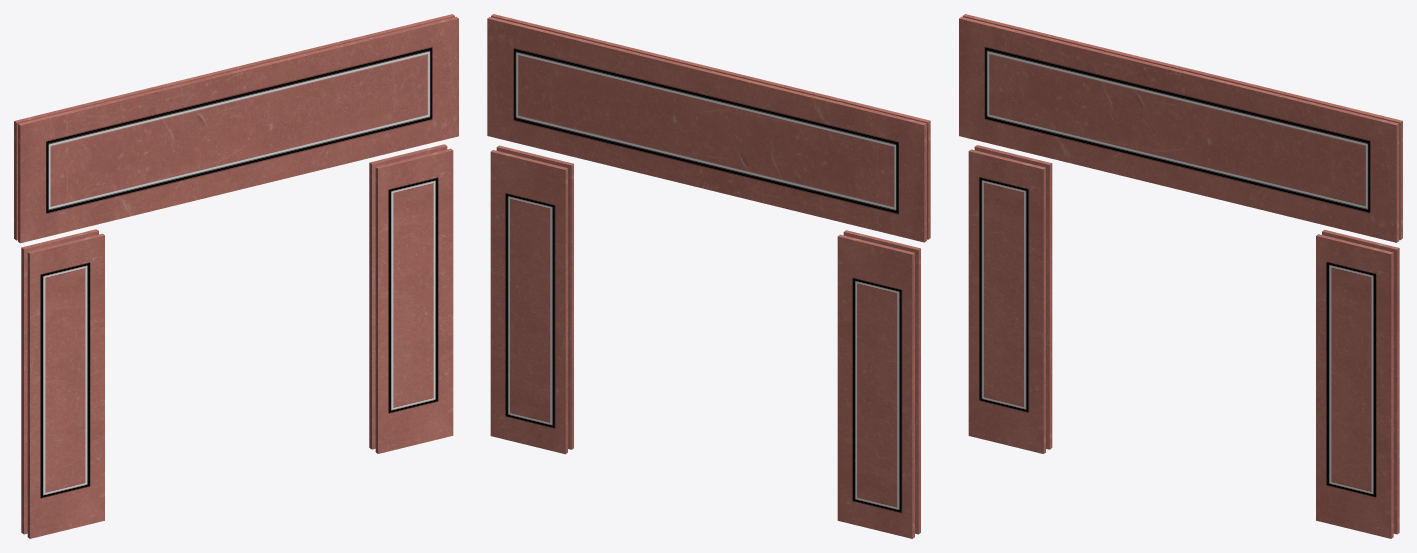
The model's file is SM_SJJ_HG_Wall03D.fbx.
3 renders of one model, left to right at view 1: azimuth 30°, elevation 25°; view 2: azimuth 150°, elevation 25°; view 3: azimuth 330°, elevation 25°, orthographic.
Parts seen in each view (by area): view 1: SM_SJJ_HG_Wall03D; view 2: SM_SJJ_HG_Wall03D; view 3: SM_SJJ_HG_Wall03D.
Part boxes in pixels (x1=…): SM_SJJ_HG_Wall03D: x1=14, y1=14, x2=458, y2=538; SM_SJJ_HG_Wall03D: x1=487, y1=14, x2=930, y2=538; SM_SJJ_HG_Wall03D: x1=959, y1=14, x2=1402, y2=538.
Bounding box in the file's own units: 225 × 7.61 × 204.
Materials: 1 (1 with a texture image).
